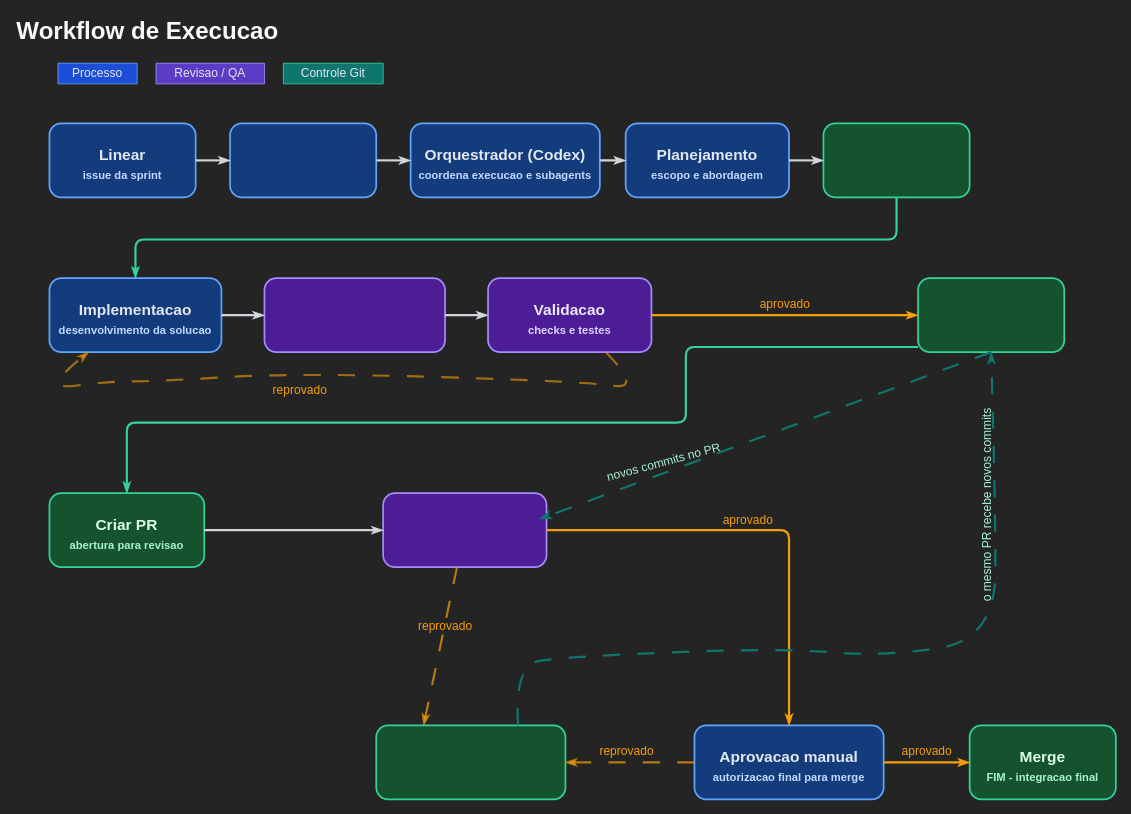
Some shapes in this 1131 by 814 pixel diagram are drawn without their labels. Here are the shapes that lost their labels. From the top down, the centre of each, then its label:
At [303,160]: "Issue atribuida INICIO - Codex inicia execucao".
At [896,160]: "Branch preparacao da entrega".
At [354,315]: "Revisao tecnica qualidade e regressao".
At [991,315]: "Commits registro das alteracoes".
At [464,530]: "Revisar PR analise final".
At [470,762]: "Ajustes correcao dos apontamentos".
